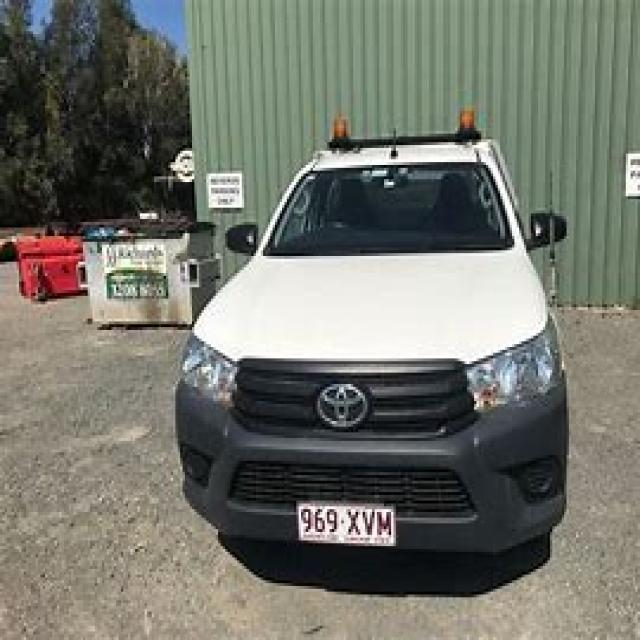light_vehicle: (161, 119, 590, 592)
